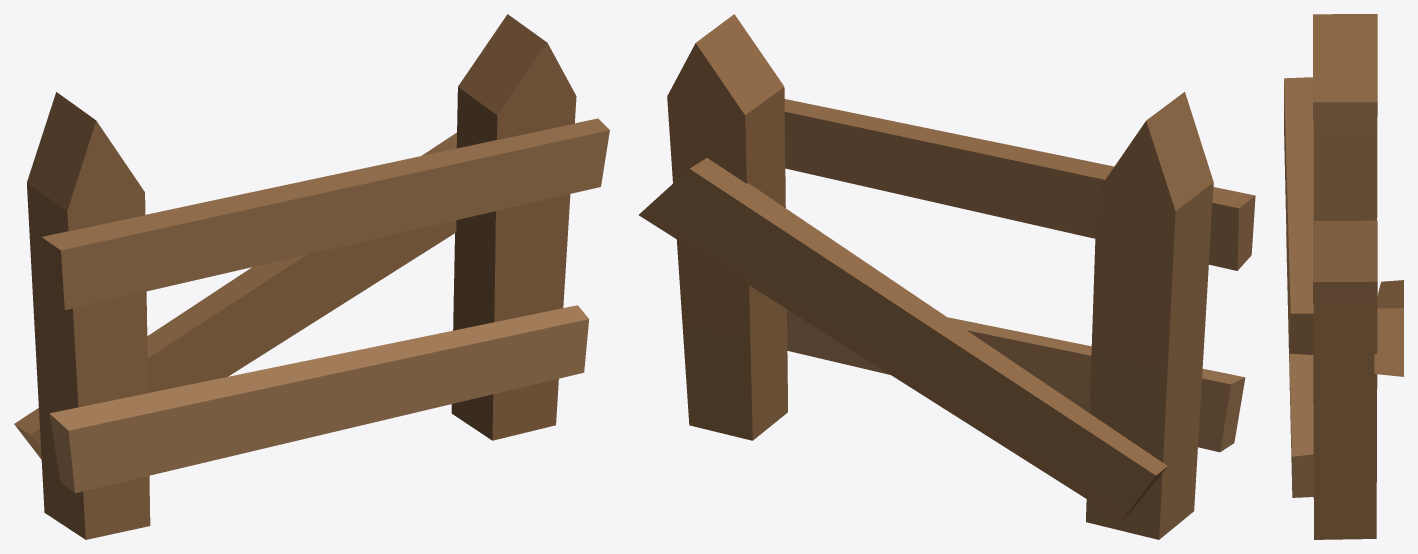
Rendered from Fence_WoodB_B.fbx.
The picture shows the model from 3 angles, left to right: view 1: azimuth 30°, elevation 25°; view 2: azimuth 150°, elevation 25°; view 3: azimuth 270°, elevation 25°; orthographic projection. The views are drawn at different scales.
Visible parts, largest first — view 1: Fence_WoodB_B; view 2: Fence_WoodB_B; view 3: Fence_WoodB_B.
Boxes of the visible parts, x1=… form: Fence_WoodB_B: x1=14, y1=14, x2=609, y2=539; Fence_WoodB_B: x1=639, y1=14, x2=1255, y2=539; Fence_WoodB_B: x1=1284, y1=14, x2=1403, y2=539.
Bounding box in the file's own units: 159 × 115 × 36.27.
